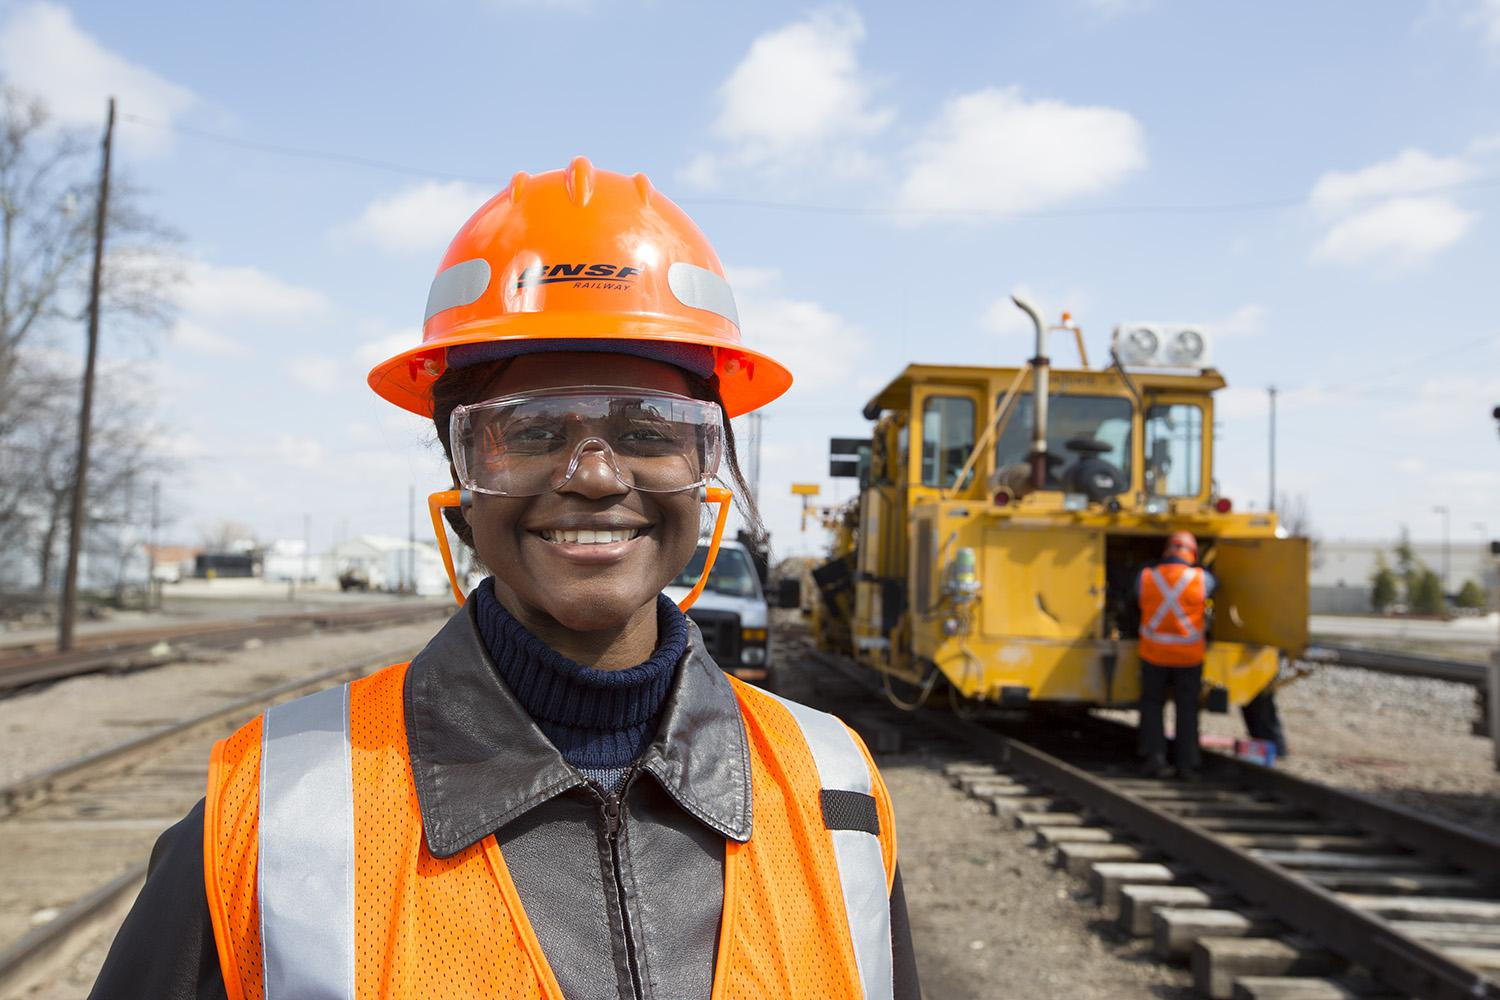helmet: (363, 155, 800, 425), (1165, 528, 1200, 554)
